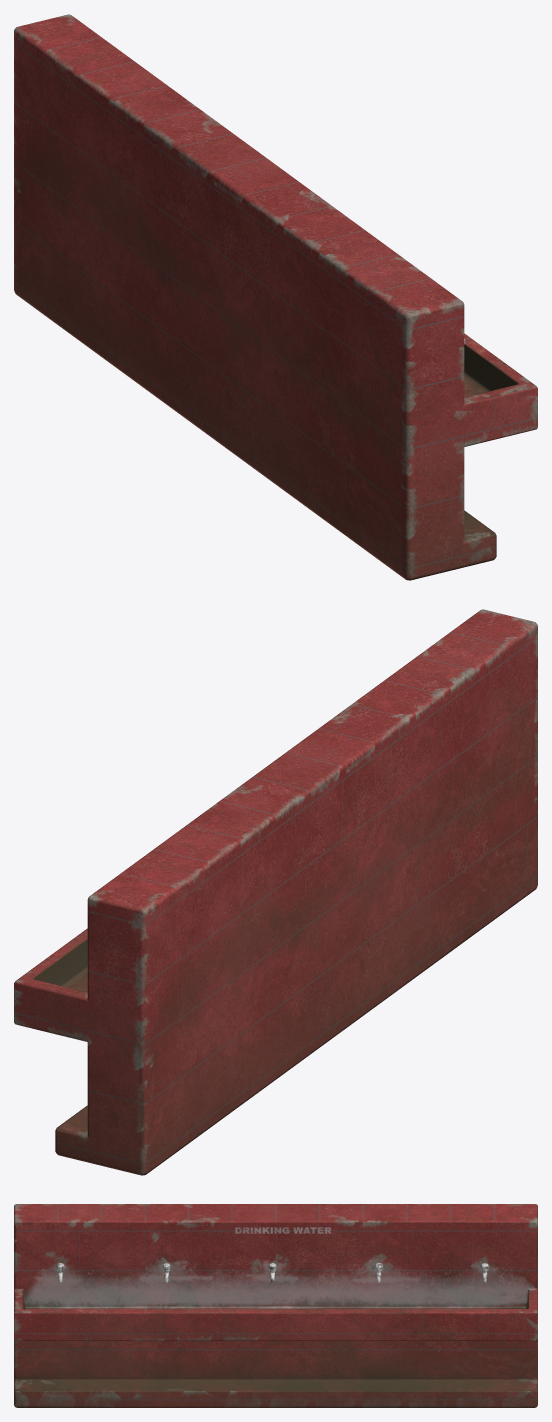
The model's file is drinkingwater.glb.
The picture shows the model from 3 angles, top to bottom: view 1: azimuth 30°, elevation 25°; view 2: azimuth 150°, elevation 25°; view 3: azimuth 270°, elevation 25°; orthographic projection. The views are drawn at different scales.
Visible parts, largest first — view 1: pCube1; view 2: pCube1; view 3: pCube1, Circle.005.
Part boxes in pixels (x1,y1,x2,y2): pCube1: [14, 14, 537, 580]; pCube1: [14, 609, 537, 1175]; pCube1: [14, 1204, 537, 1407]; Circle.005: [56, 1263, 488, 1282].
Bounding box in the file's own units: 0.0878 × 0.1709 × 0.4587.
1 material, 1 textured.
